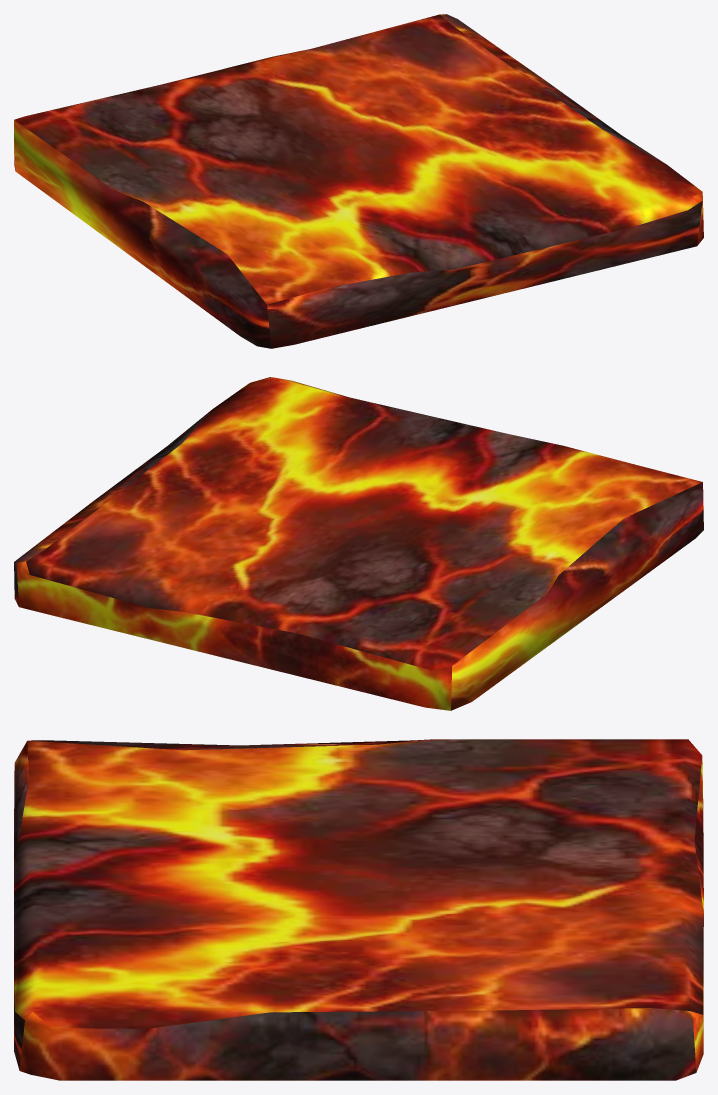
Rendered from lavaTile.glb.
The picture shows the model from 3 angles, top to bottom: view 1: azimuth 30°, elevation 25°; view 2: azimuth 150°, elevation 25°; view 3: azimuth 270°, elevation 25°; orthographic projection. The views are drawn at different scales.
Visible parts, largest first — view 1: Tile2_02; view 2: Tile2_02; view 3: Tile2_02.
Part boxes in pixels (<box>): Tile2_02: <box>14,14,703,348</box>; Tile2_02: <box>14,377,703,710</box>; Tile2_02: <box>14,739,703,1080</box>.
Size of the model in its own units: 0.2855 by 0.028 by 0.2854.
Materials: 1 (1 with a texture image).
